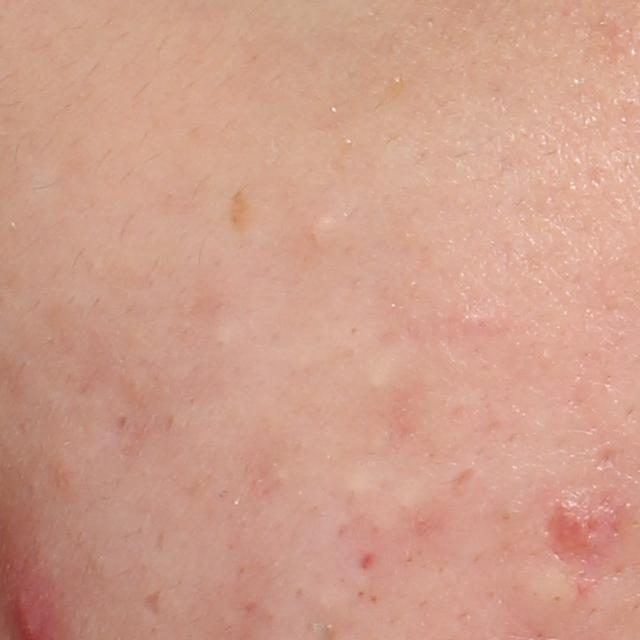atrophic_scar: (446, 465, 476, 505), (593, 441, 622, 472), (142, 588, 161, 618)
comedo: (303, 213, 336, 247)
hypertrophic_scar: (516, 569, 580, 631), (350, 348, 407, 400)
melasma: (224, 186, 253, 242)
papule: (544, 494, 613, 564)
